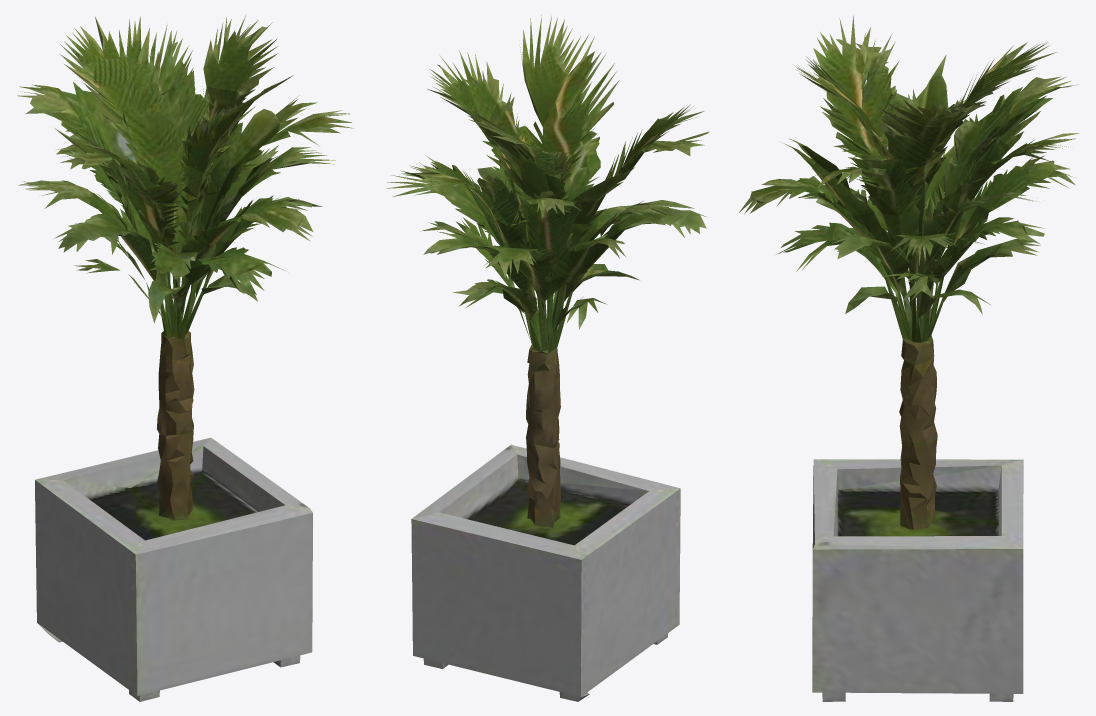
File: mall_planter.glb
The picture shows the model from 3 angles, left to right: view 1: azimuth 30°, elevation 25°; view 2: azimuth 150°, elevation 25°; view 3: azimuth 270°, elevation 25°; orthographic projection. The views are drawn at different scales.
Parts seen in each view (by area): view 1: mall_planter; view 2: mall_planter; view 3: mall_planter.
Part boxes in pixels (left/top/right/bottom): mall_planter: left=17, top=15, right=354, bottom=701; mall_planter: left=386, top=15, right=709, bottom=701; mall_planter: left=739, top=15, right=1079, bottom=701.
Size of the model in its own units: 1.64 by 3.2 by 1.61.
Materials: 1 (1 with a texture image).
